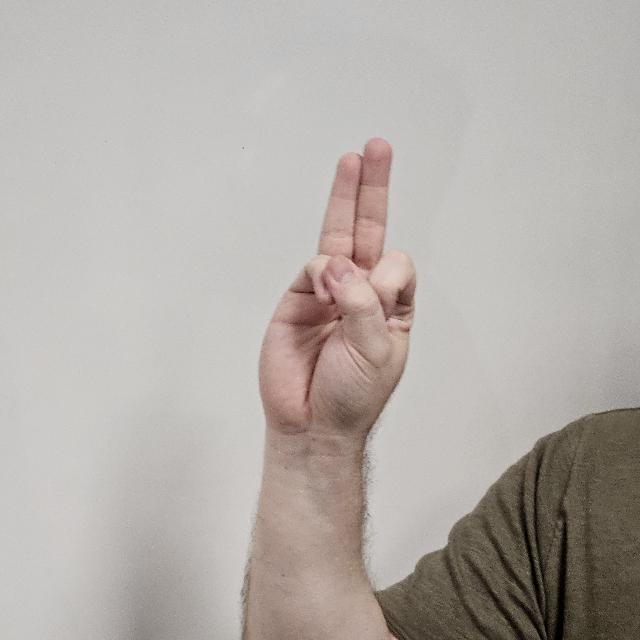R: (255, 140, 415, 456)
